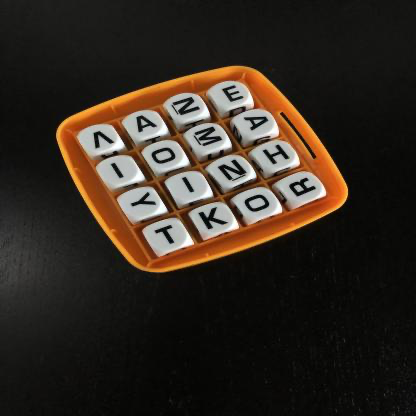a: (124, 113, 165, 140), (237, 111, 276, 139)
e: (211, 81, 250, 106)
h: (254, 142, 297, 170)
i: (97, 155, 140, 184), (170, 173, 211, 201)
k: (193, 203, 237, 231)
m: (188, 125, 230, 153)
n: (210, 156, 254, 186), (168, 91, 207, 121)
o: (240, 190, 280, 222), (146, 141, 184, 169)
r: (282, 173, 324, 204)
t: (146, 220, 187, 249)
v: (83, 125, 123, 153)
y: (123, 187, 163, 217)
